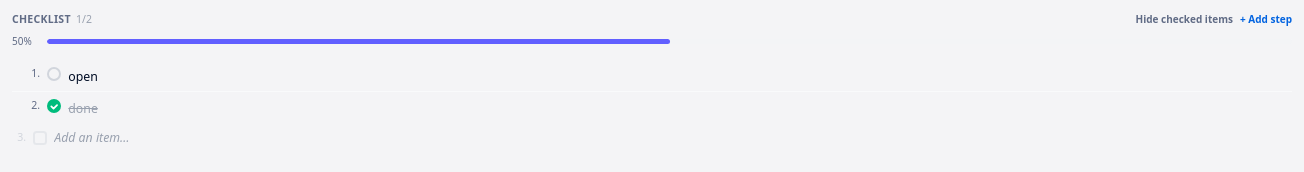
Test: StepsPanel › the hide toggle flips back to Show checked items with a count
expect the text "done" is shown: met, box x1=68 y1=100 x2=98 y2=118
Click the button "Hide checked items". click: x=1184, y=20
box: x1=1136 y1=12 x2=1233 y2=27
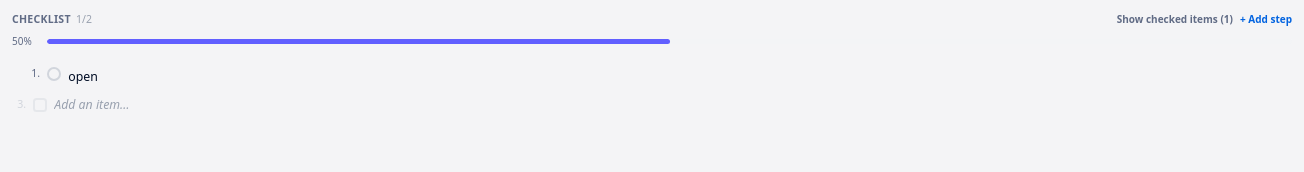
Click the button "Show checked items (1)". click: x=1175, y=20
box: x1=1117 y1=12 x2=1233 y2=27
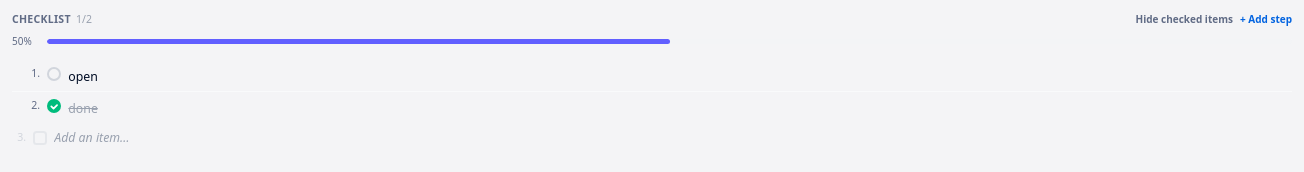
expect the text "done" is shown: met, box x1=68 y1=100 x2=98 y2=118
